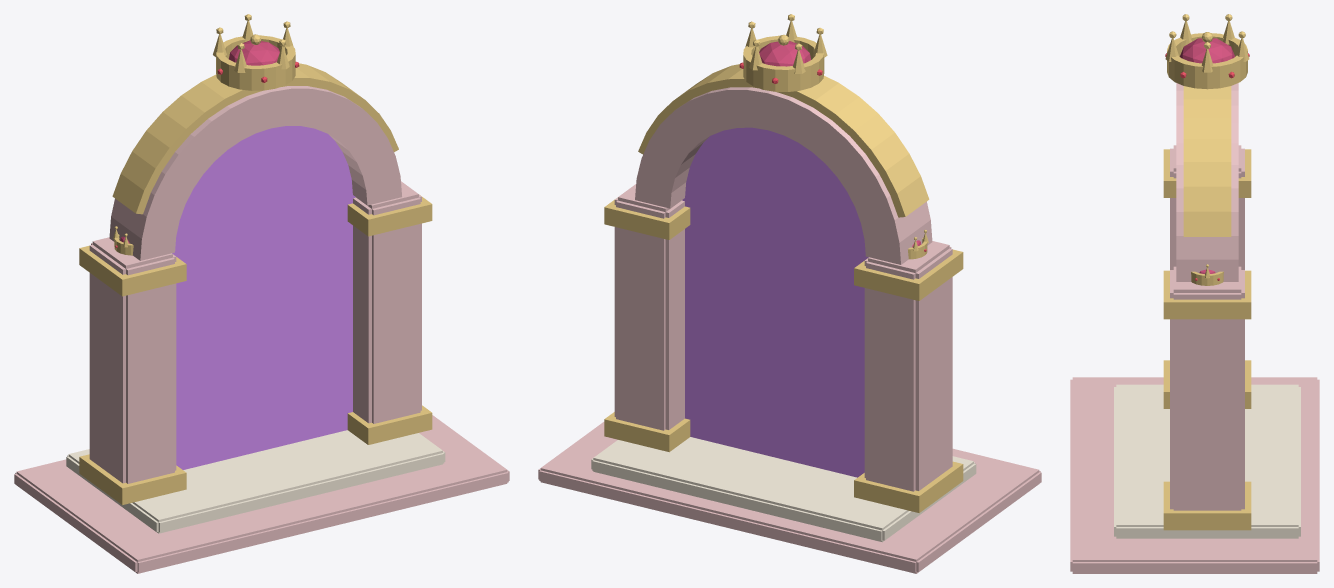
The model's file is HOB_ExitPortal.fbx.
3 renders of one model, left to right at view 1: azimuth 30°, elevation 25°; view 2: azimuth 150°, elevation 25°; view 3: azimuth 270°, elevation 25°, orthographic.
Parts seen in each view (by area): view 1: HOB_ExitPortal; view 2: HOB_ExitPortal; view 3: HOB_ExitPortal.
Part boxes in pixels (left/top/right/bottom): HOB_ExitPortal: left=14, top=14, right=509, bottom=573; HOB_ExitPortal: left=538, top=14, right=1041, bottom=573; HOB_ExitPortal: left=1070, top=14, right=1319, bottom=573.
Size of the model in its own units: 700 by 807 by 400.
